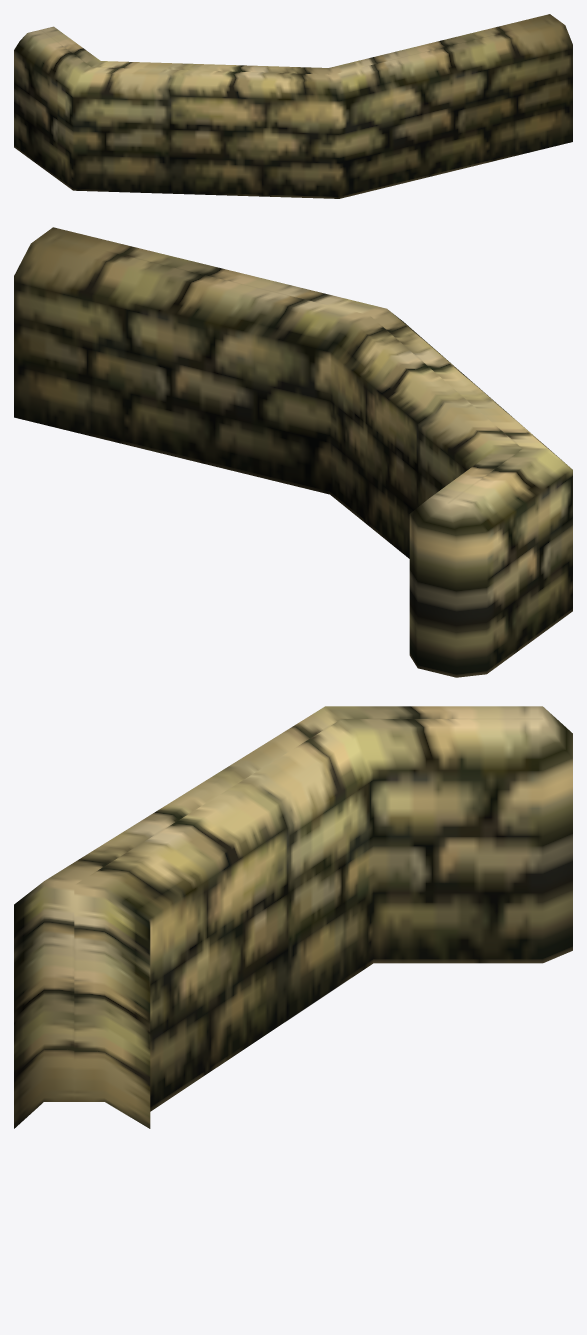
The model's file is Mission12_MainGate_Bunker02.glb.
3 views of the same model, one above another, from view 1: azimuth 30°, elevation 25°; view 2: azimuth 150°, elevation 25°; view 3: azimuth 270°, elevation 25° (orthographic). The views are drawn at different scales.
Parts seen in each view (by area): view 1: MISSION12_MAINGATE_BUNKER02; view 2: MISSION12_MAINGATE_BUNKER02; view 3: MISSION12_MAINGATE_BUNKER02.
Boxes of the visible parts, x1=… form: MISSION12_MAINGATE_BUNKER02: x1=14, y1=14, x2=572, y2=198; MISSION12_MAINGATE_BUNKER02: x1=14, y1=227, x2=572, y2=677; MISSION12_MAINGATE_BUNKER02: x1=14, y1=706, x2=572, y2=1128.
Bounding box in the file's own units: 4 × 1 × 2.31.
1 material, 1 textured.
